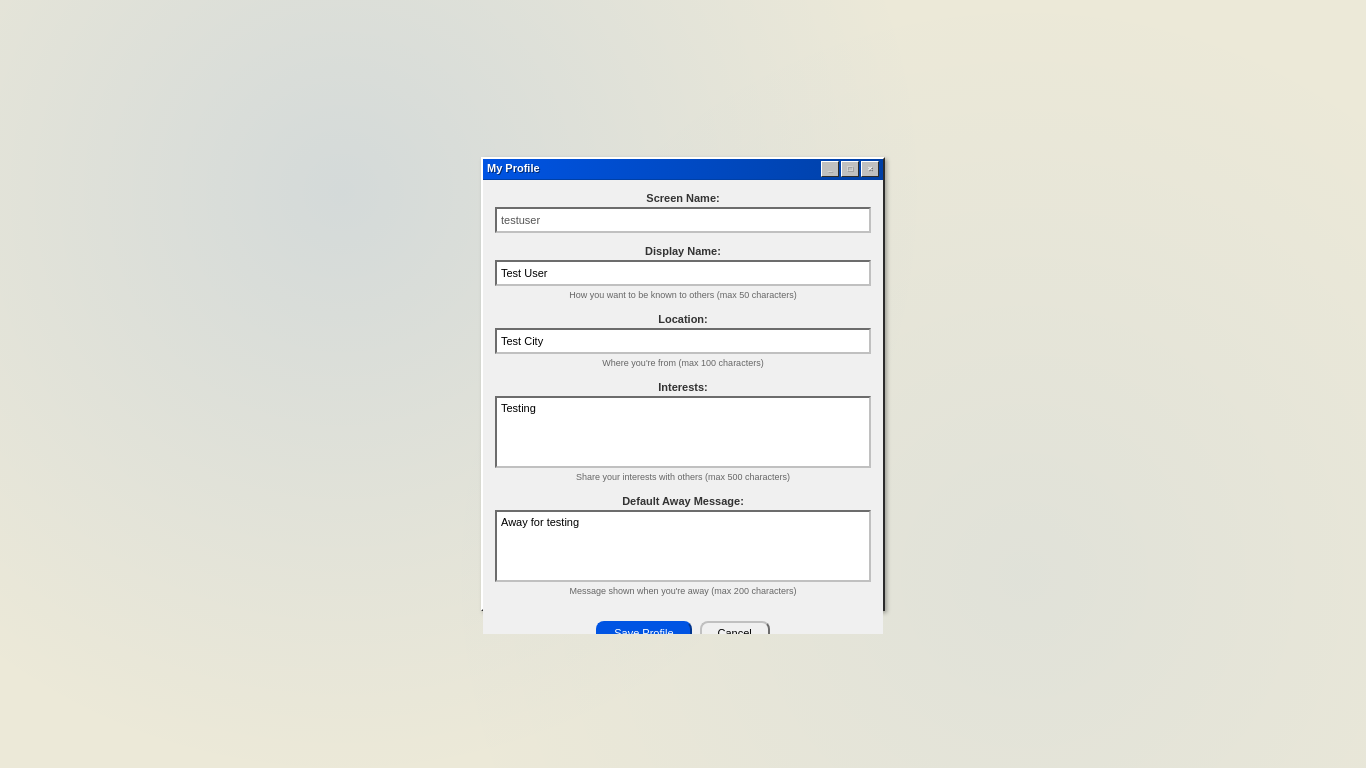
it: ProfileWindow › should handle profile update error
Expected: the field showing "testuser" below "Screen Name:" is shown, [495,207,871,233]
Submit the form
Click the button "Save Profile".
click(644, 633)  # box [596,621,692,644]
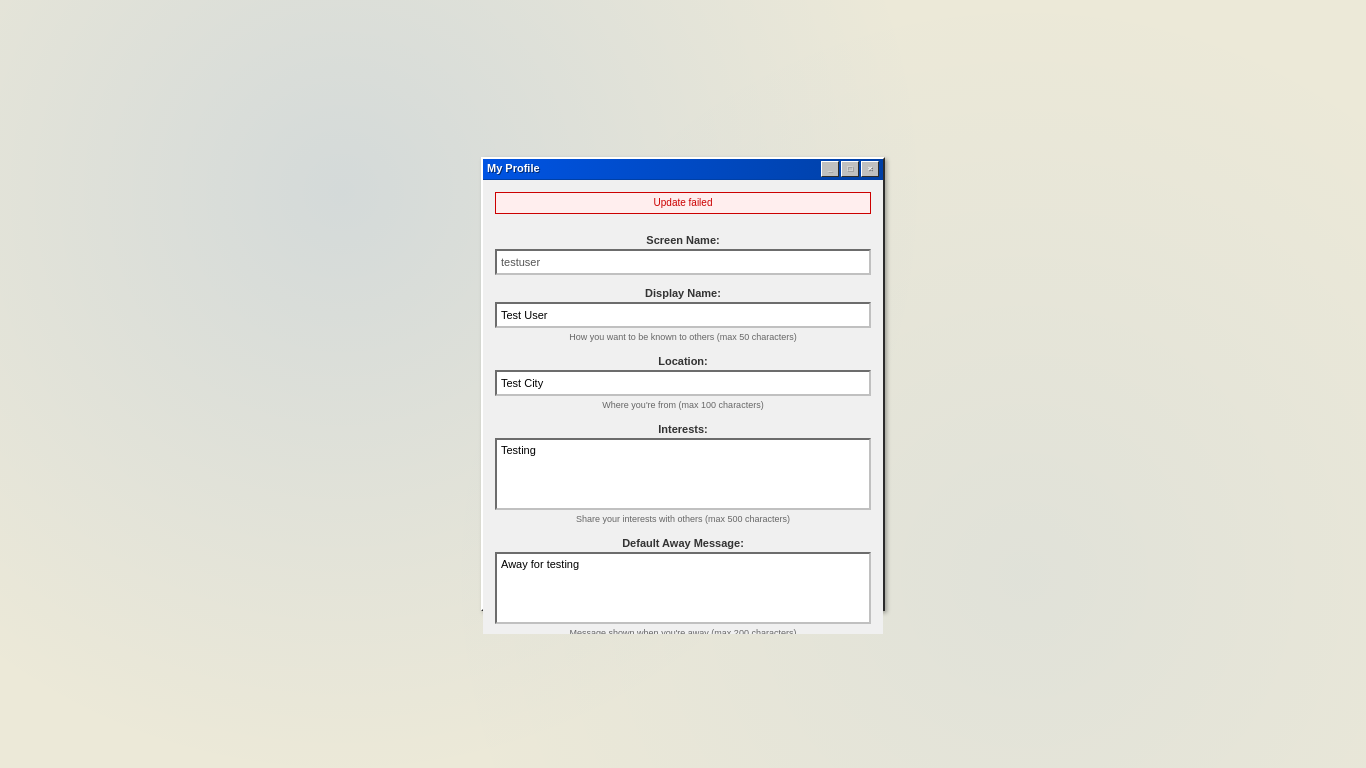
Result: the text "Update failed" is shown at [495,192,871,214]
